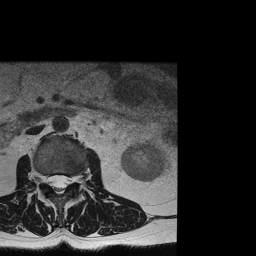CCS_normal: (55, 168, 62, 199)
LFS_normal: (71, 168, 79, 189)
LLS_normal: (62, 170, 71, 194)
RFS_normal: (40, 168, 48, 189)
RLS_normal: (47, 169, 55, 193)
